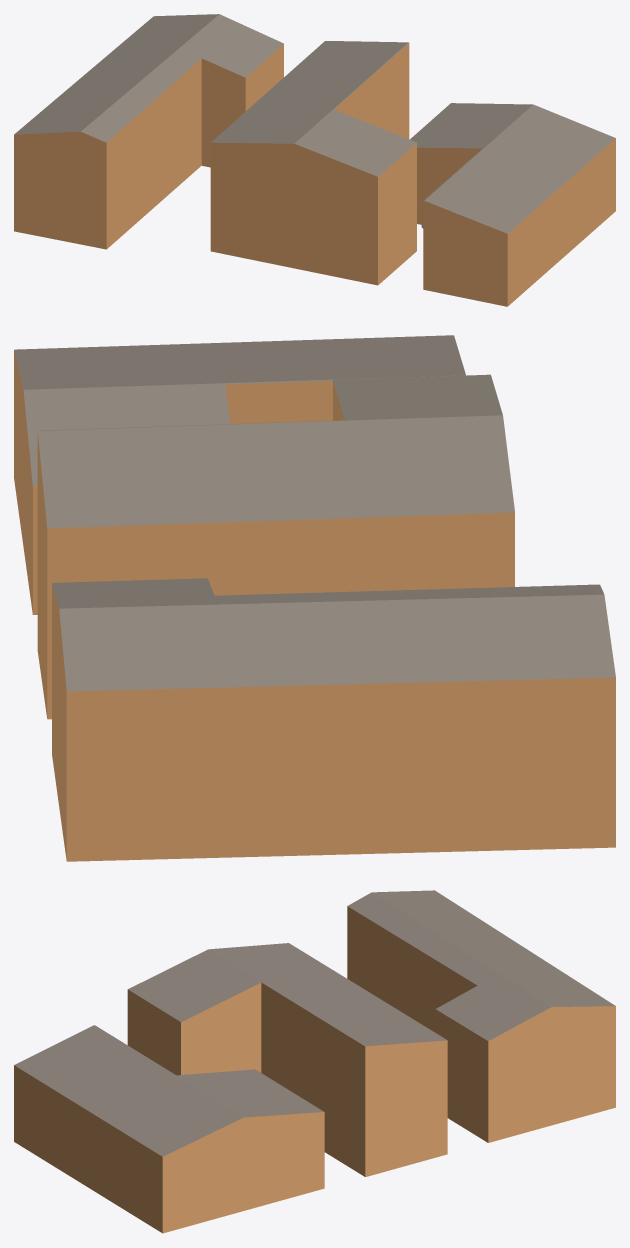
The model's file is twenty-campus-openstreetmap.glb.
The picture shows the model from 3 angles, top to bottom: view 1: azimuth 30°, elevation 25°; view 2: azimuth 150°, elevation 25°; view 3: azimuth 270°, elevation 25°; orthographic projection. The views are drawn at different scales.
Parts seen in each view (by area): view 1: element.006, element.007, element.005; view 2: element.007, element.006, element.005; view 3: element.006, element.005, element.007.
Boxes of the visible parts, x1=… form: element.006: x1=210, y1=41, x2=416, y2=285; element.007: x1=14, y1=14, x2=283, y2=249; element.005: x1=410, y1=103, x2=615, y2=306; element.007: x1=52, y1=578, x2=615, y2=861; element.006: x1=37, y1=374, x2=514, y2=719; element.005: x1=14, y1=335, x2=465, y2=614; element.006: x1=127, y1=943, x2=447, y2=1176; element.005: x1=14, y1=1025, x2=324, y2=1233; element.007: x1=347, y1=890, x2=615, y2=1142.
Size of the model in its own units: 92.14 by 24.26 by 97.03.
